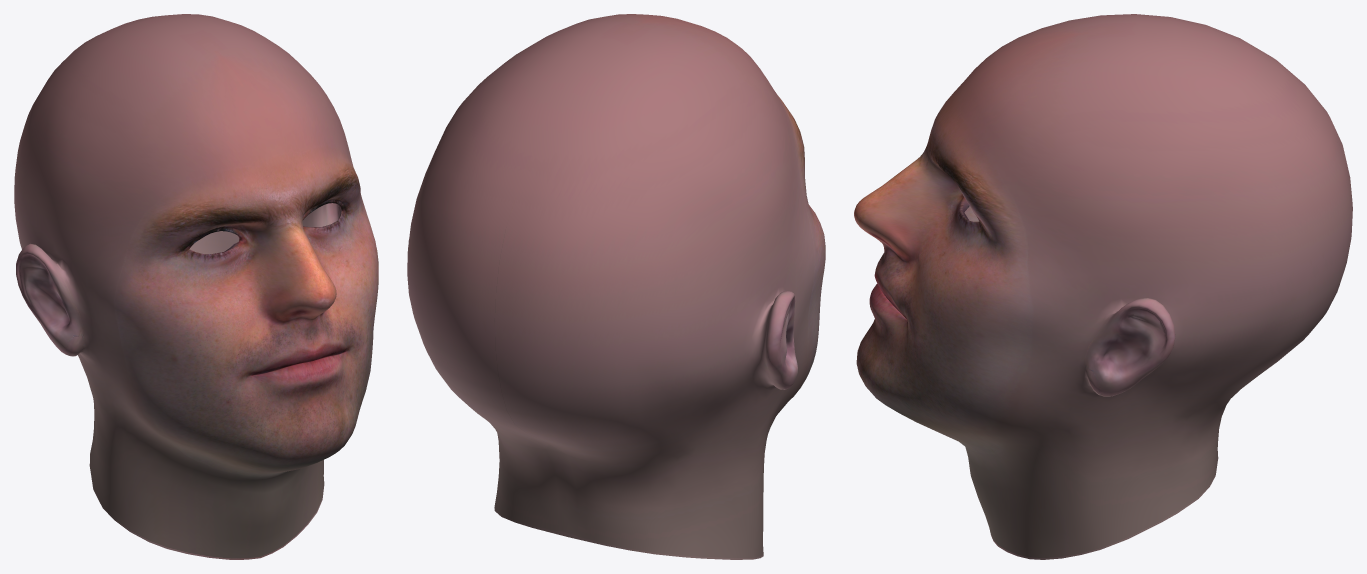
The picture shows the model from 3 angles, left to right: view 1: azimuth 30°, elevation 25°; view 2: azimuth 150°, elevation 25°; view 3: azimuth 270°, elevation 25°; orthographic projection. The views are drawn at different scales.
Visible parts, largest first — view 1: FaceGen; view 2: FaceGen; view 3: FaceGen.
Boxes of the visible parts, x1,y1,x2,y2 form: FaceGen: (14,14,378,559); FaceGen: (407,14,825,559); FaceGen: (854,14,1352,559).
Bounding box in the file's own units: 196 × 275 × 246.
1 material, 1 textured.
